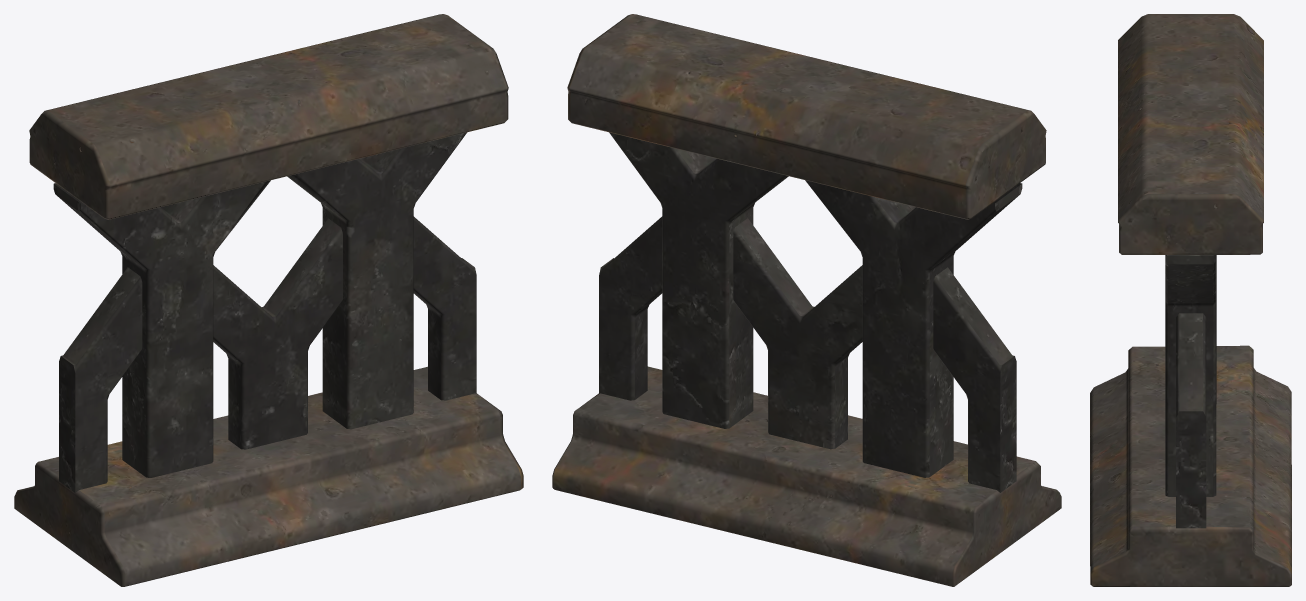
3 renders of one model, left to right at view 1: azimuth 30°, elevation 25°; view 2: azimuth 150°, elevation 25°; view 3: azimuth 270°, elevation 25°, orthographic. The views are drawn at different scales.
Parts seen in each view (by area): view 1: SM_BB_T3_Extended_Barricade_Middle_LOD0; view 2: SM_BB_T3_Extended_Barricade_Middle_LOD0; view 3: SM_BB_T3_Extended_Barricade_Middle_LOD0.
Boxes of the visible parts, bbox=[...] form: SM_BB_T3_Extended_Barricade_Middle_LOD0: bbox=[14, 14, 523, 586]; SM_BB_T3_Extended_Barricade_Middle_LOD0: bbox=[552, 14, 1061, 586]; SM_BB_T3_Extended_Barricade_Middle_LOD0: bbox=[1090, 14, 1291, 586].
Size of the model in its own units: 1.51 by 1.5 by 0.7006.
Materials: 2 (2 with a texture image).
